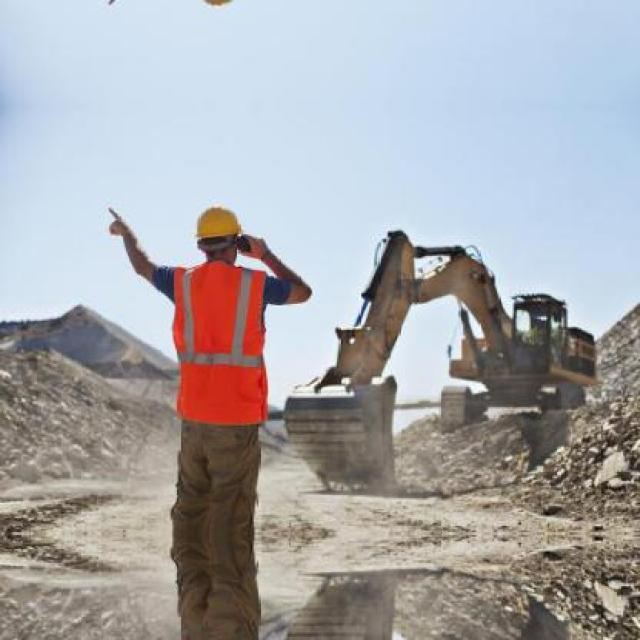helmet: (188, 194, 246, 267), (188, 0, 248, 19)
